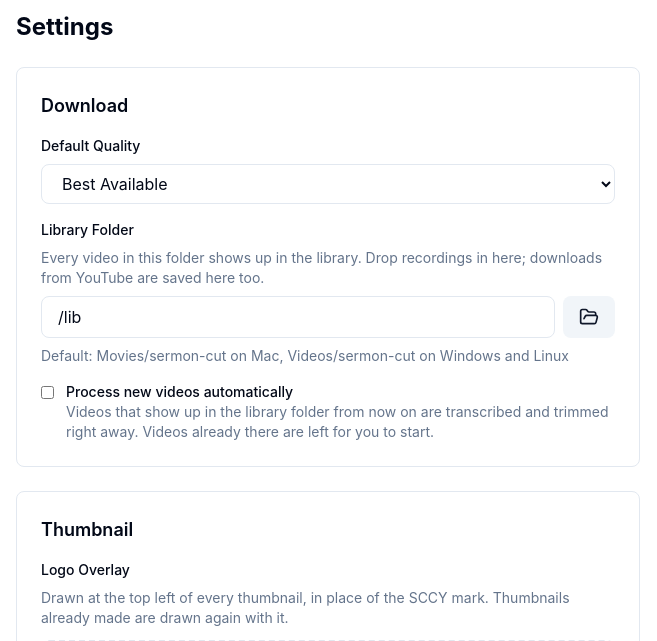
Test: Settings autosave › applies a picked folder at once and shows a refusal inline
Click the button titled "Choose folder".
click(589, 317)  # box [563,296,615,338]
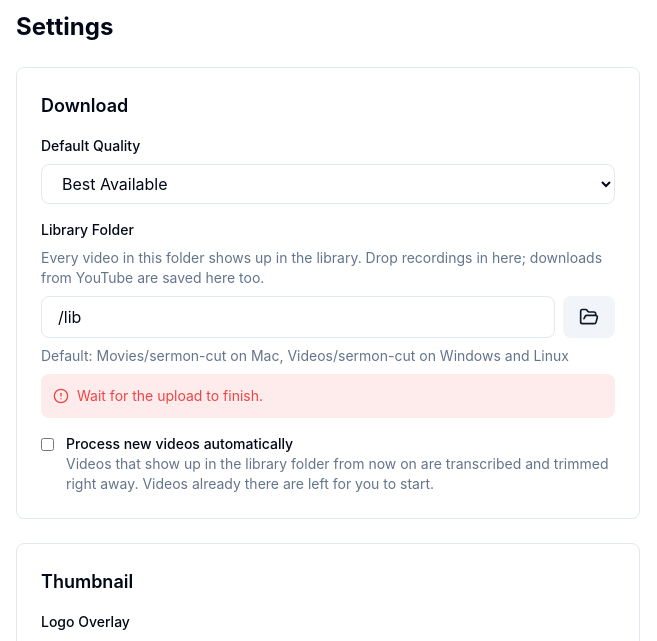
Expected: the field labelled "Library Folder" holds "/lib", [41,296,555,338]
Now the message reads "Wait for the upload to finish.", box [77,387,263,404]
